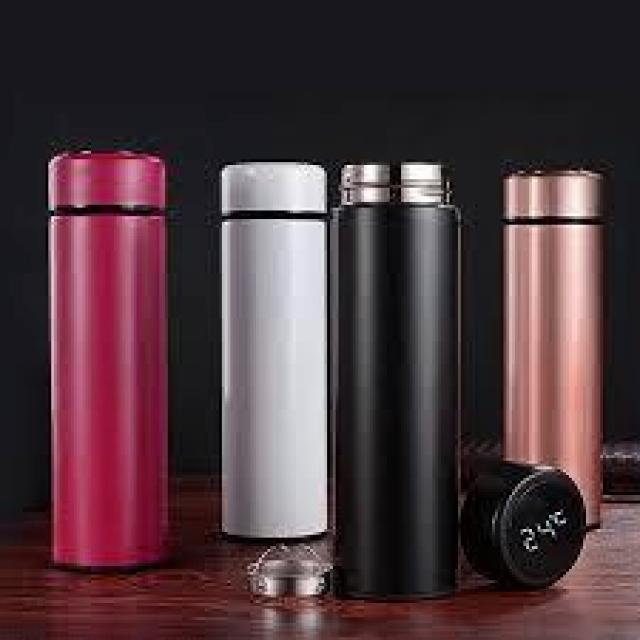bottle: (332, 153, 462, 614), (45, 151, 174, 577), (216, 161, 336, 542), (502, 170, 604, 534)
